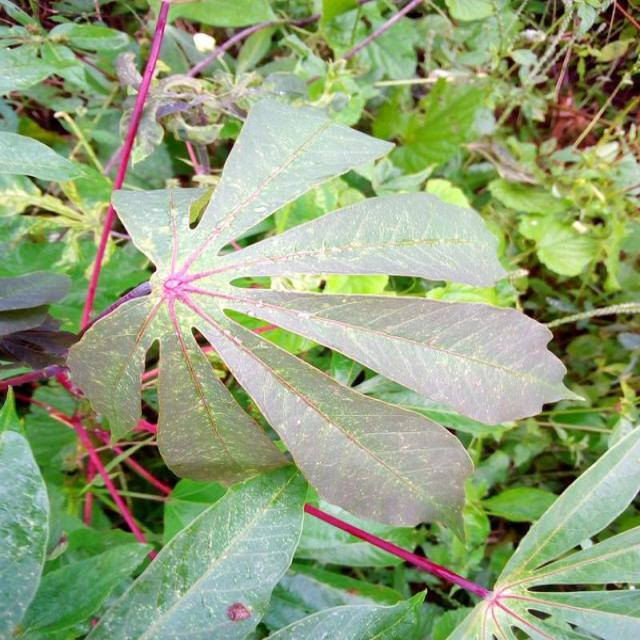cassava leaf: (65, 95, 581, 541), (83, 462, 310, 638)
